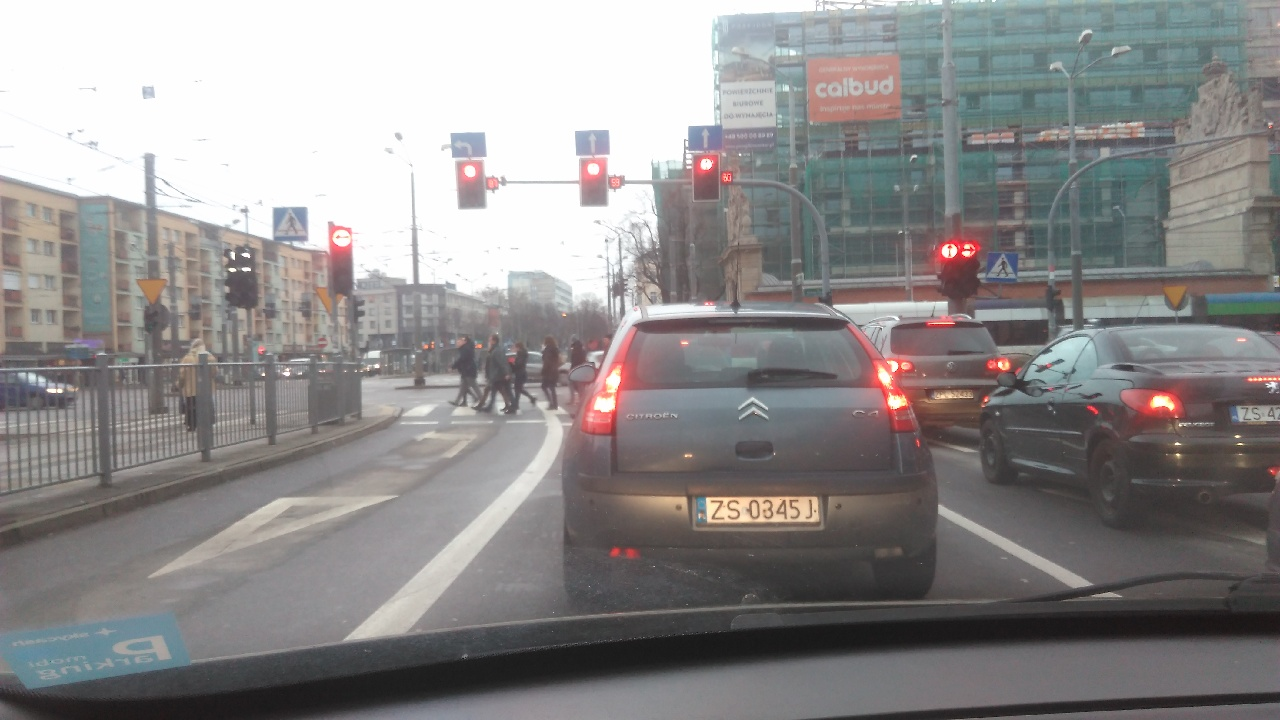A7: (131, 275, 175, 306), (1159, 283, 1194, 313)
D6: (267, 205, 313, 241), (981, 250, 1024, 285)
